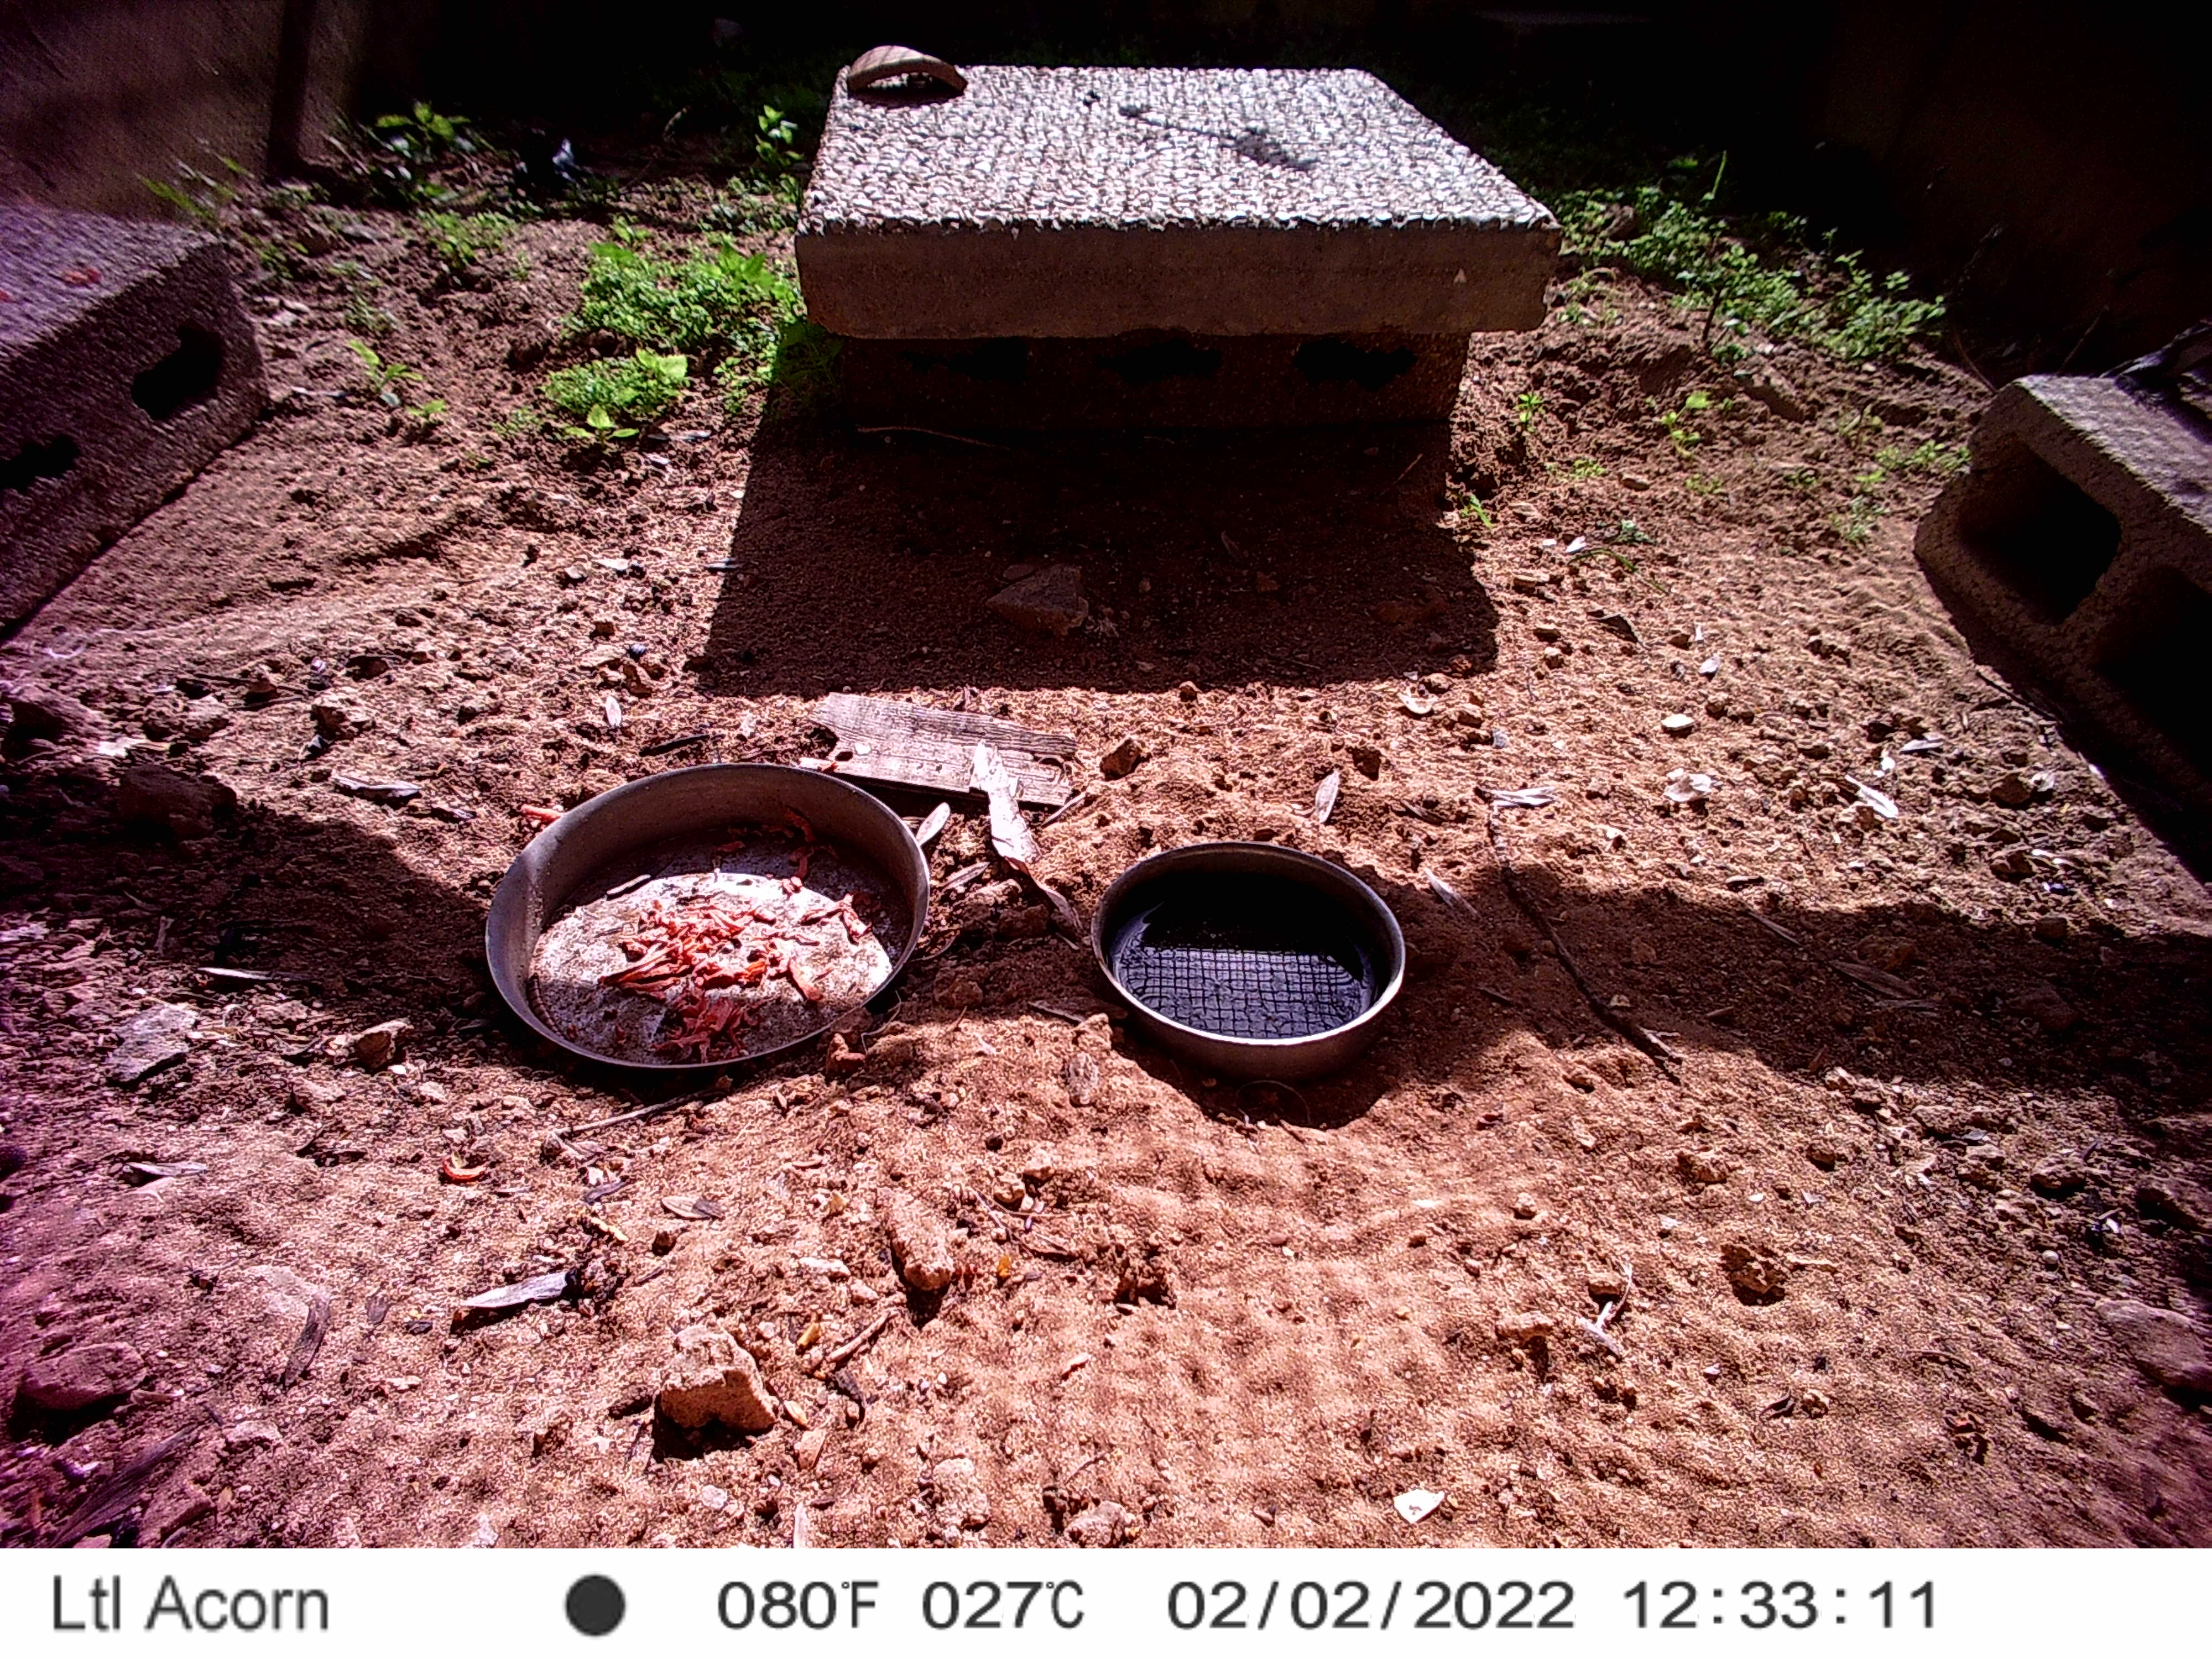lizard: (2087, 307, 2210, 416)
